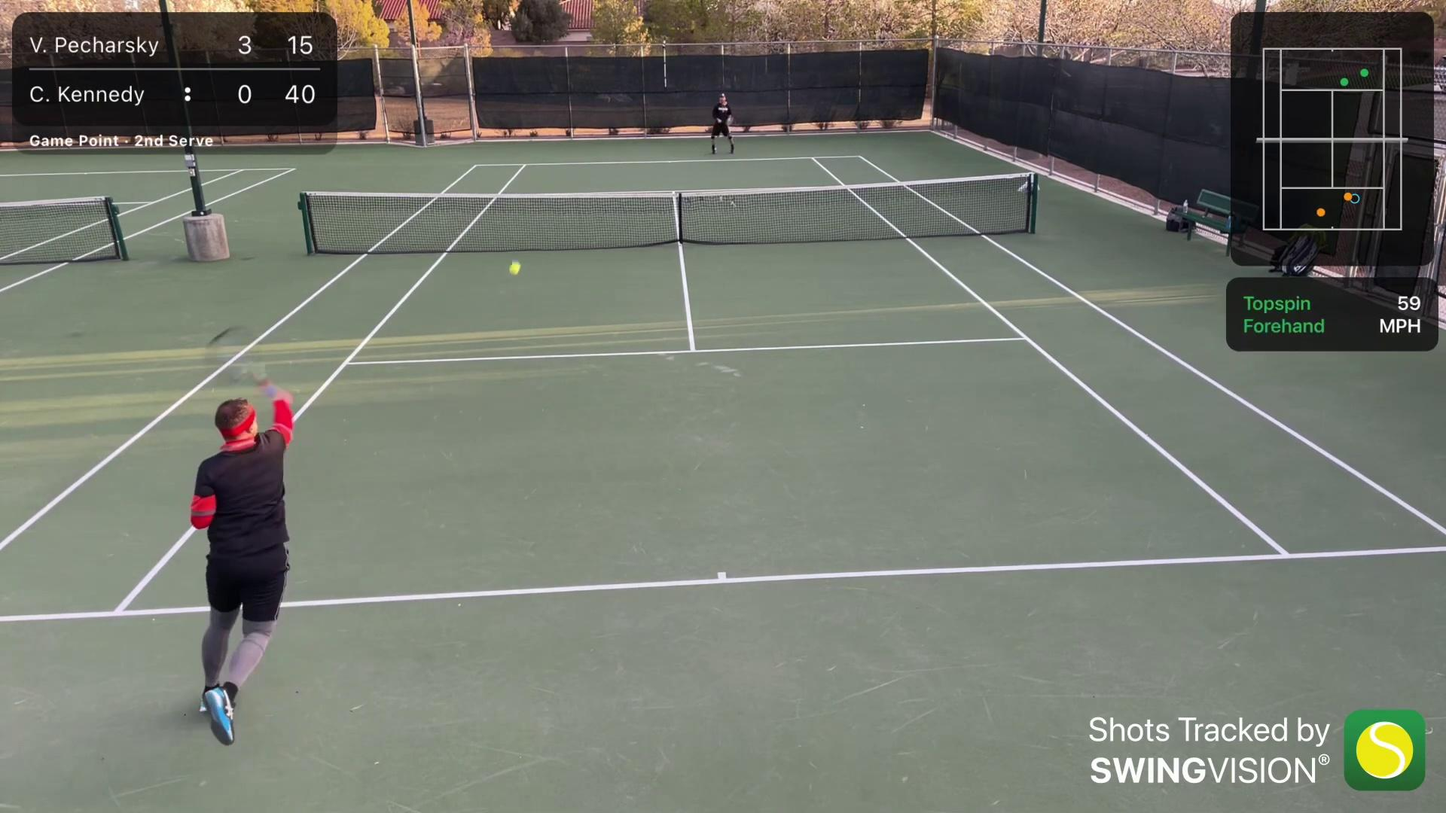ball: (505, 259, 523, 276)
